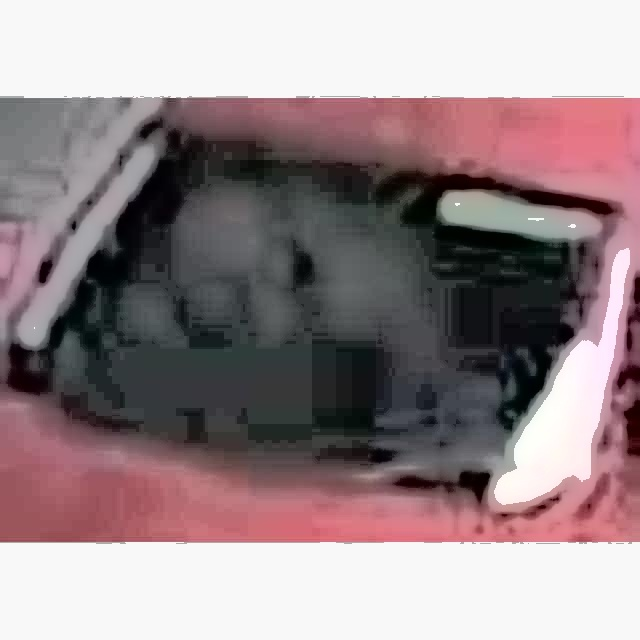pakai: (172, 160, 445, 402)
